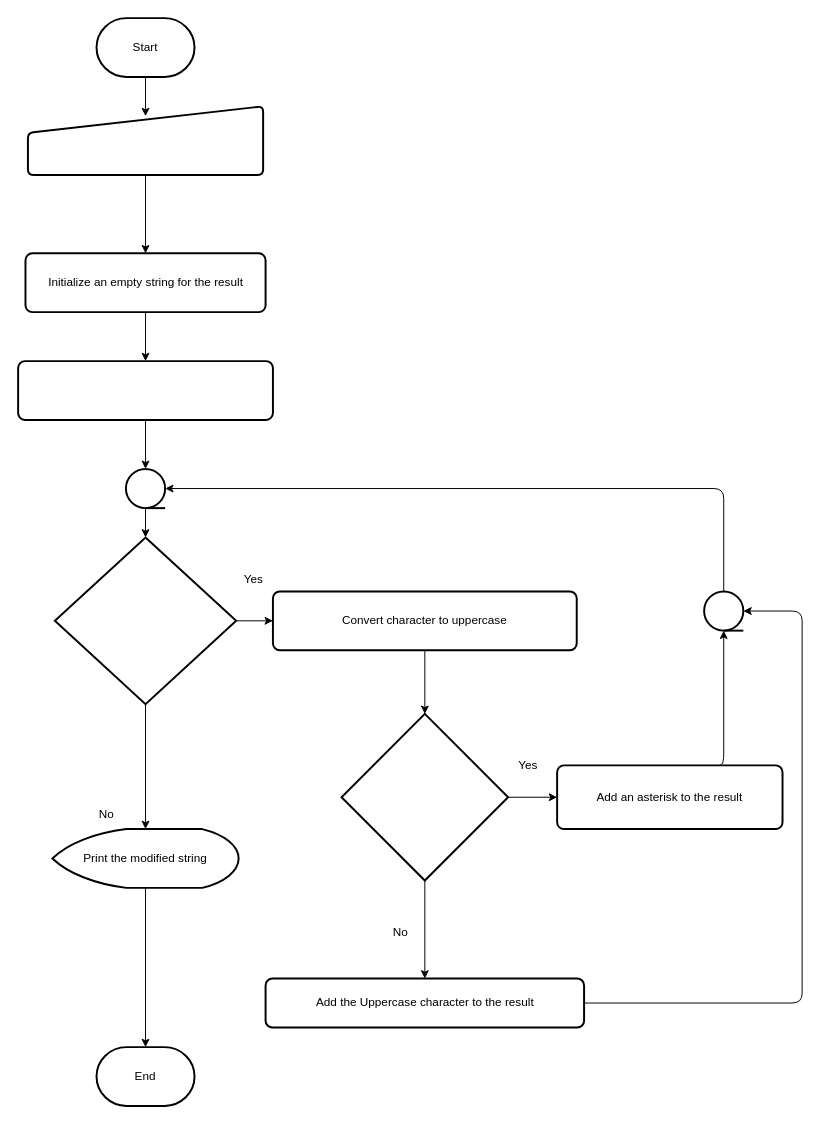
This 827x1123 diagram has some shape labels left out. Each missing label, with the centre of its shape:
Define vowels as "aeiouAEIOU": (145,390)
IS Character a vowel?: (424,796)
More characters in string?: (145,620)
Read Input string from the users: (145,140)
